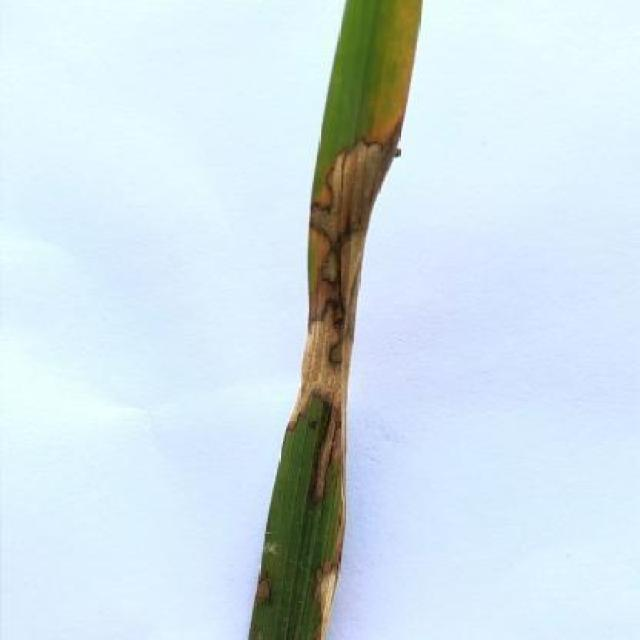Brown_Spot: (242, 0, 424, 640)
